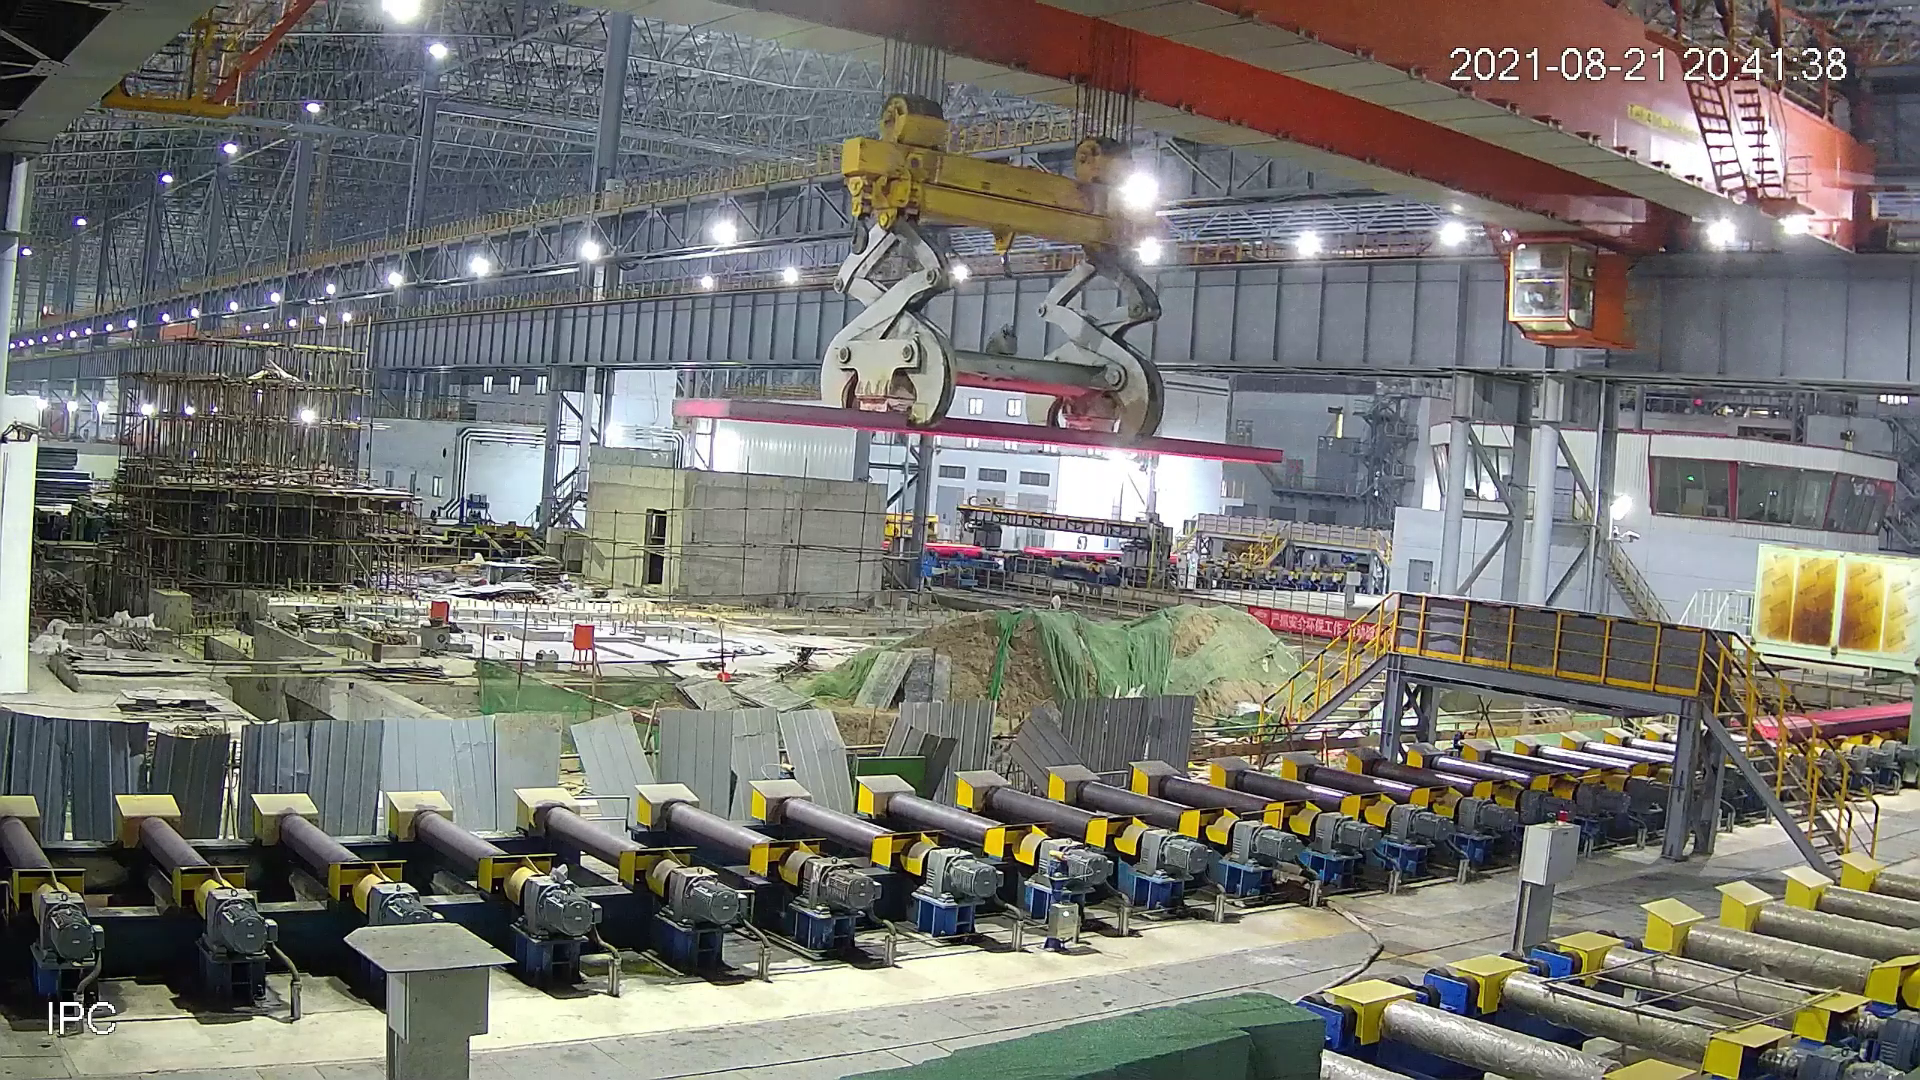craneandslab: (673, 76, 1294, 469)
slab: (1717, 696, 1917, 742)
